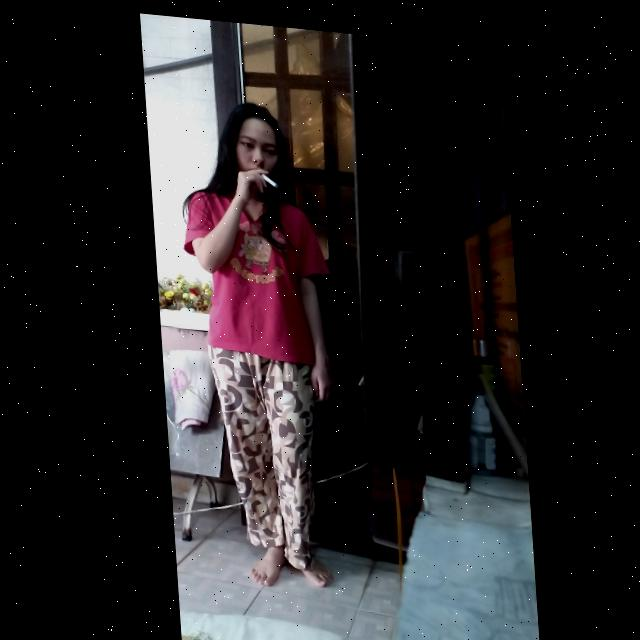cigarette: (259, 169, 275, 182)
